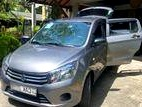car: (0, 6, 141, 107)
